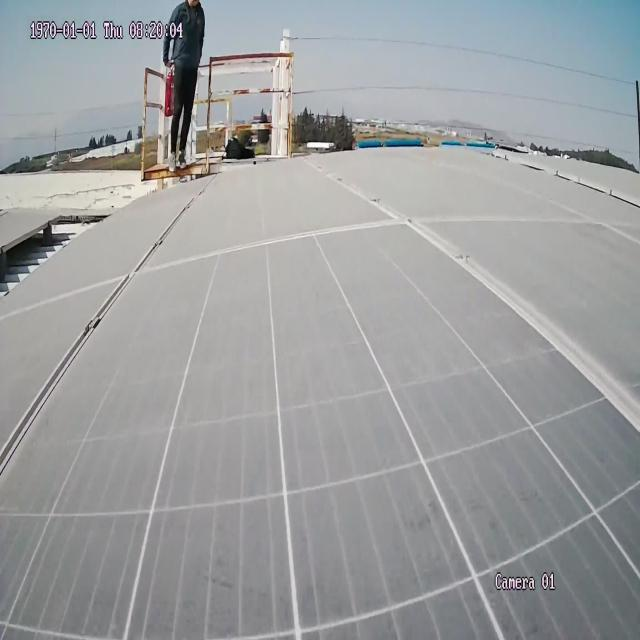interior panel: (145, 153, 640, 451), (0, 167, 218, 494)
outher panel: (1, 210, 122, 305)
